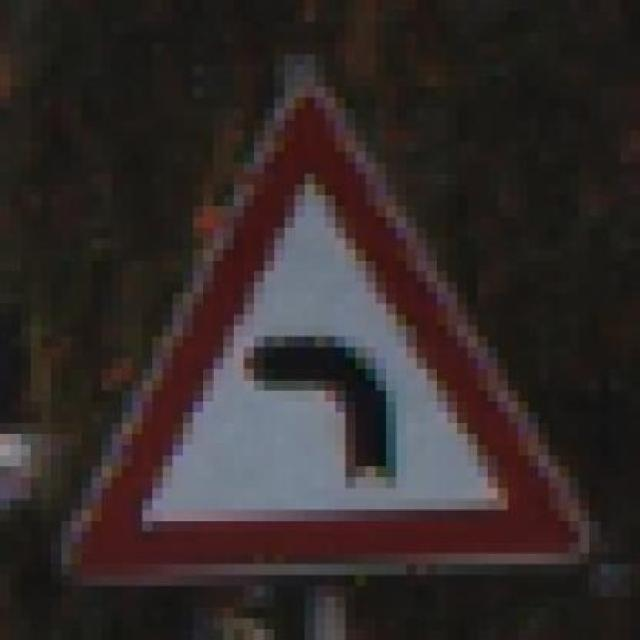Dangerous Left Curve Ahead: (71, 65, 600, 586)
